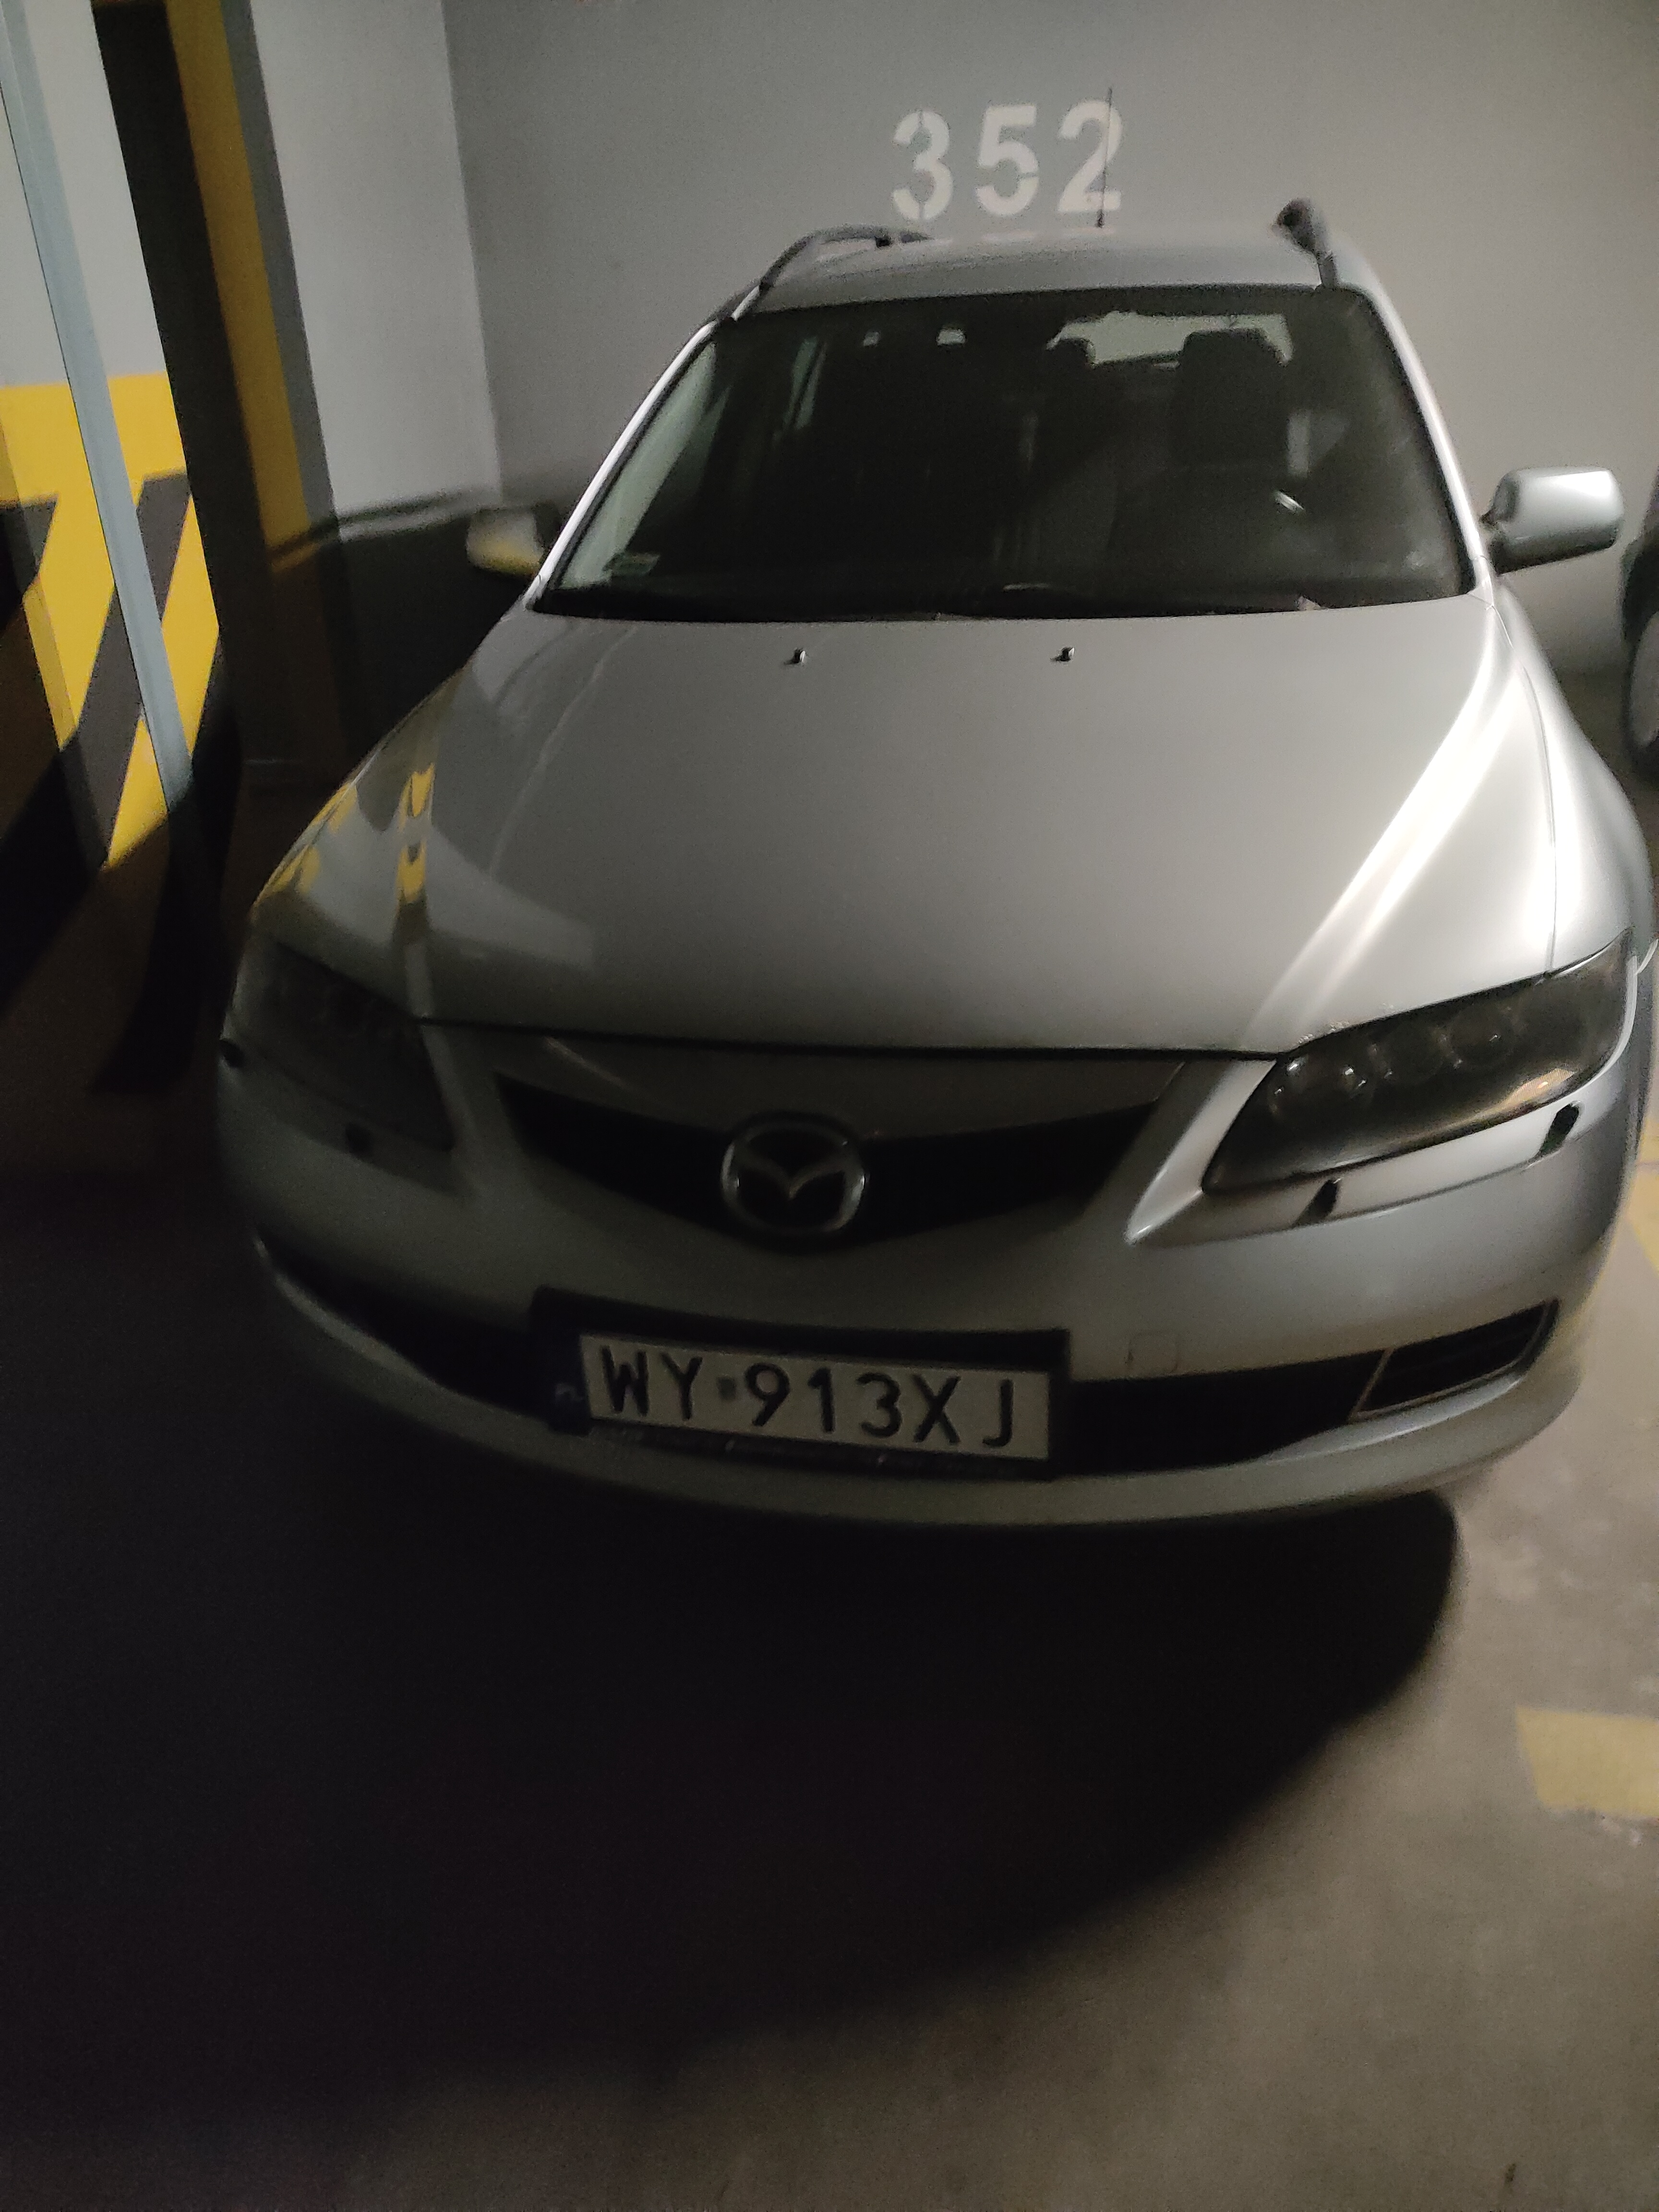number_plate: (544, 1312, 1072, 1497)
